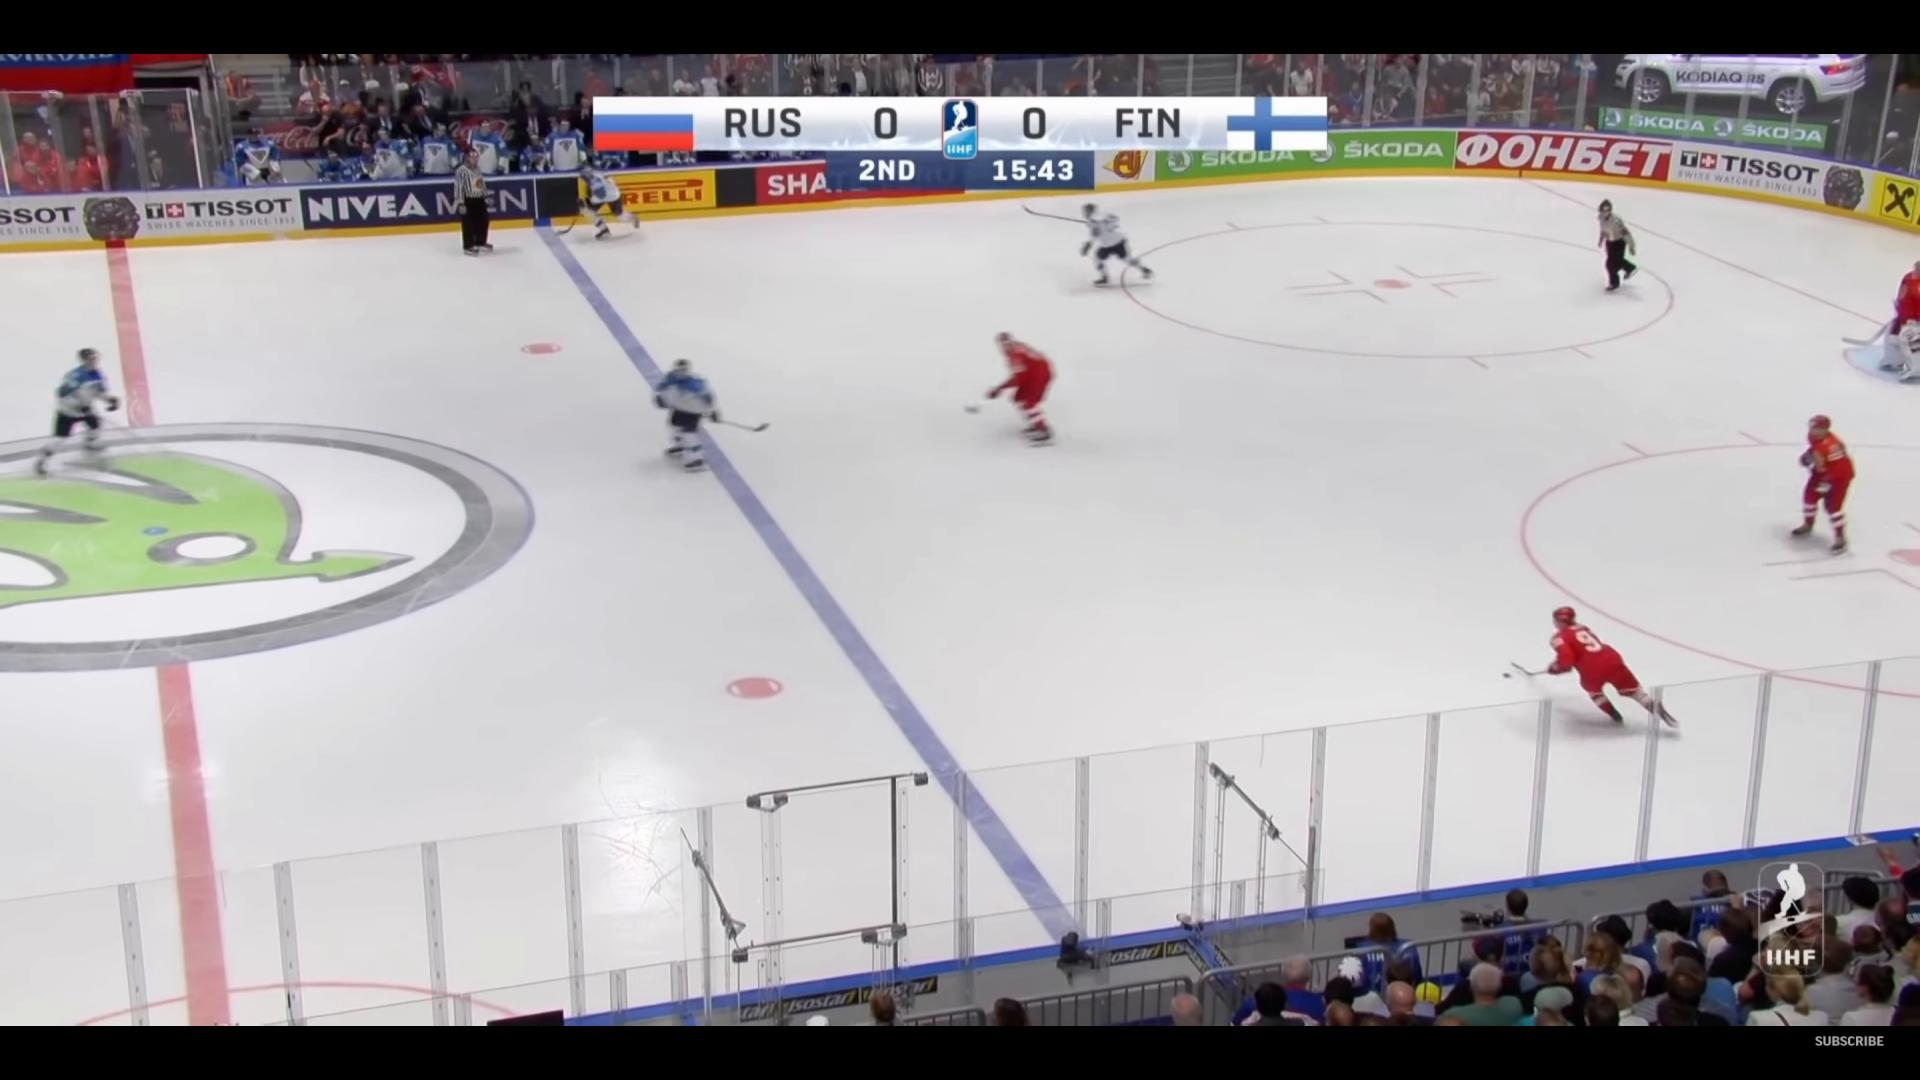puck: (1501, 673, 1511, 679)
